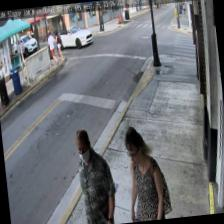person: (73, 126, 119, 224), (122, 124, 167, 222)
